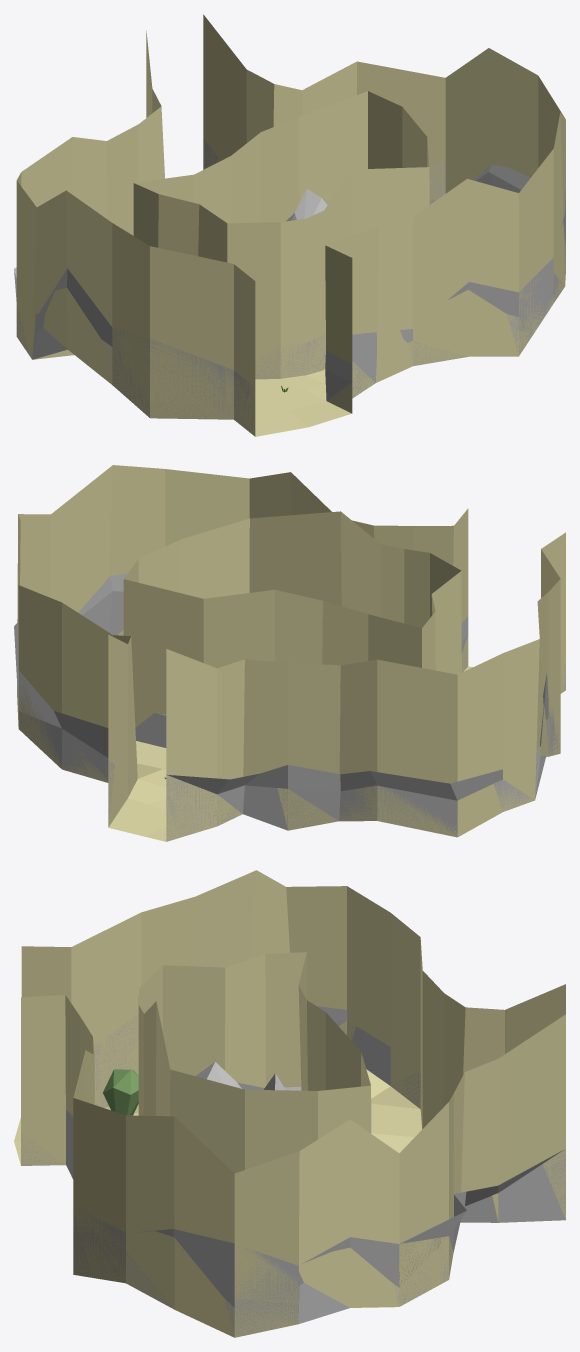
3 renders of one model, top to bottom at view 1: azimuth 30°, elevation 25°; view 2: azimuth 150°, elevation 25°; view 3: azimuth 270°, elevation 25°, orthographic. The views are drawn at different scales.
Visible parts, largest first — view 1: simple, level28; view 2: simple, level28; view 3: simple, level28.
Boxes of the visible parts, bbox=[...] form: simple: bbox=[16, 14, 565, 436]; level28: bbox=[14, 138, 565, 436]; simple: bbox=[17, 465, 565, 841]; level28: bbox=[14, 573, 565, 841]; simple: bbox=[14, 870, 565, 1337]; level28: bbox=[21, 1006, 565, 1337].
Size of the model in its own units: 49.89 by 19.24 by 43.39.
